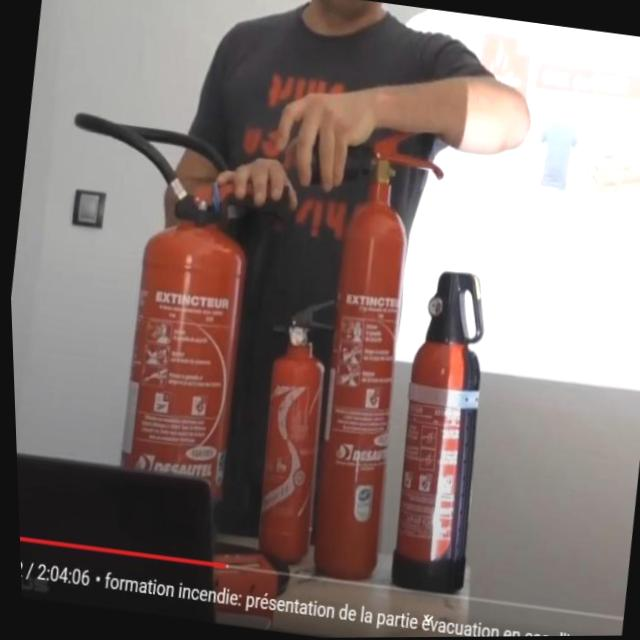FireExtinguisher: (10, 102, 310, 566), (219, 95, 465, 594), (370, 261, 510, 602), (230, 284, 346, 577)
